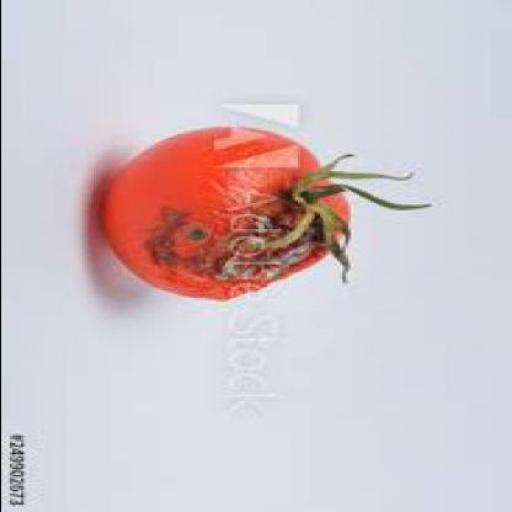biodegradable: (101, 122, 433, 300)
